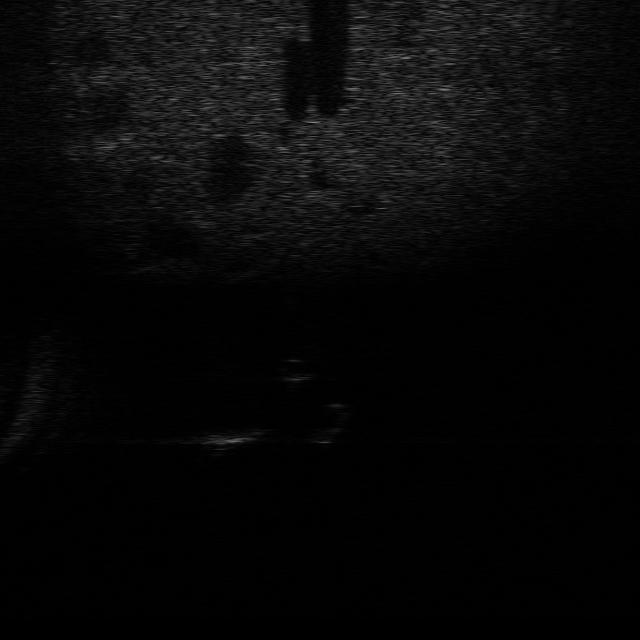ball: (262, 351, 322, 394)
square cage: (178, 414, 274, 462)
tyre: (300, 400, 354, 448)
